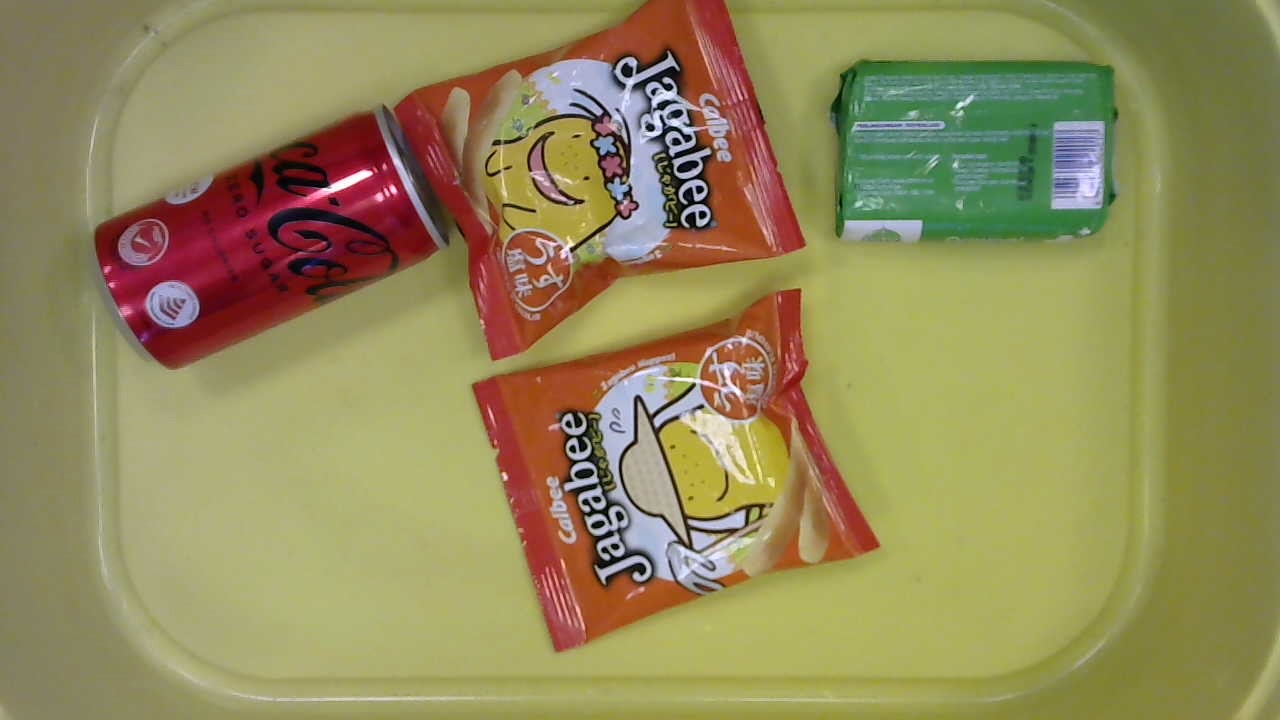JagabeeFarmer: (466, 335, 895, 655)
